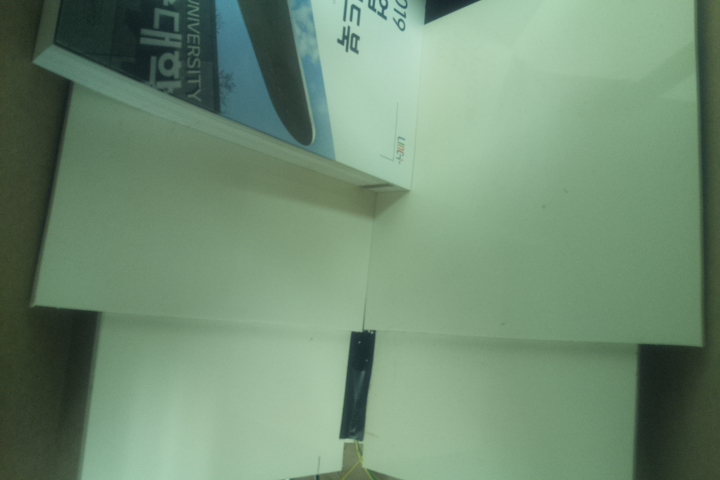book: (26, 1, 429, 196)
